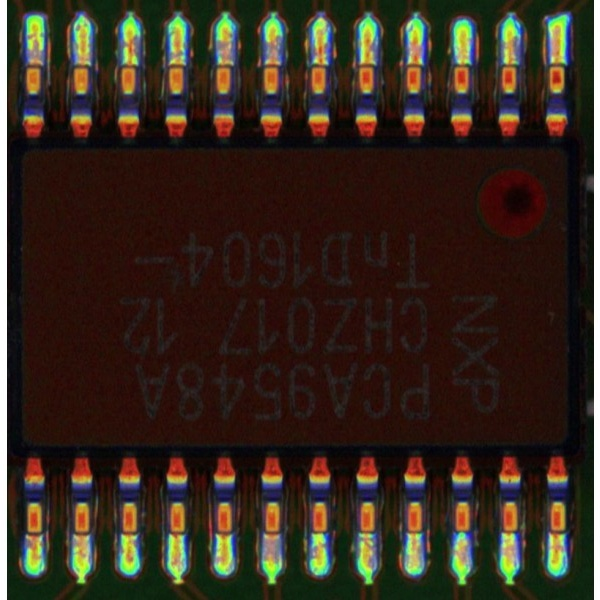Bad_podu: (73, 48, 88, 83), (215, 49, 231, 81), (455, 45, 468, 82), (310, 48, 325, 79), (168, 50, 182, 83), (27, 46, 40, 81), (550, 48, 564, 79), (122, 46, 134, 82), (75, 518, 86, 554), (265, 520, 277, 552), (503, 49, 516, 78), (267, 50, 279, 81), (360, 50, 371, 81), (170, 520, 180, 554), (408, 50, 418, 82), (551, 518, 560, 553), (27, 521, 38, 549), (216, 521, 227, 548), (407, 525, 421, 541)
